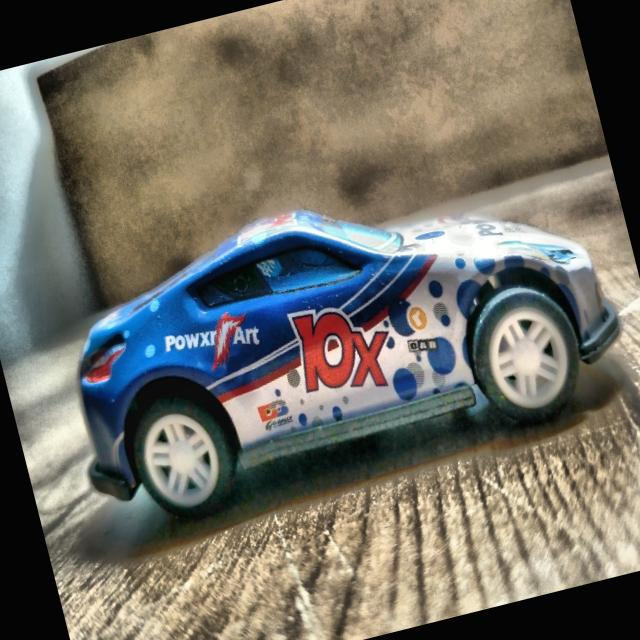Car: (39, 141, 638, 537)
